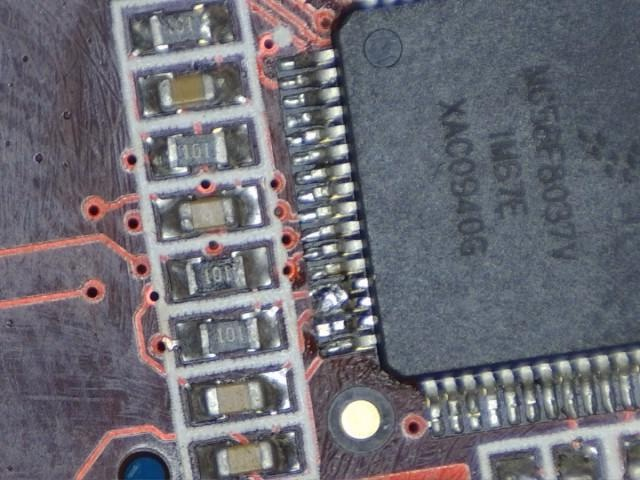pcb_defect: (311, 277, 372, 313)
